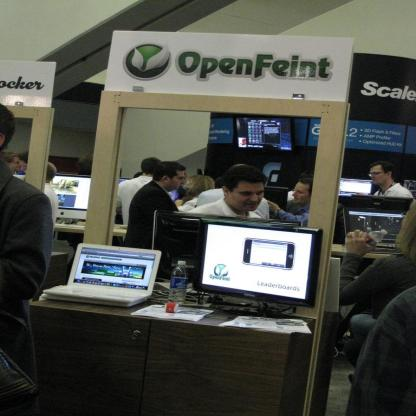board: (64, 240, 162, 307), (360, 228, 388, 250)
